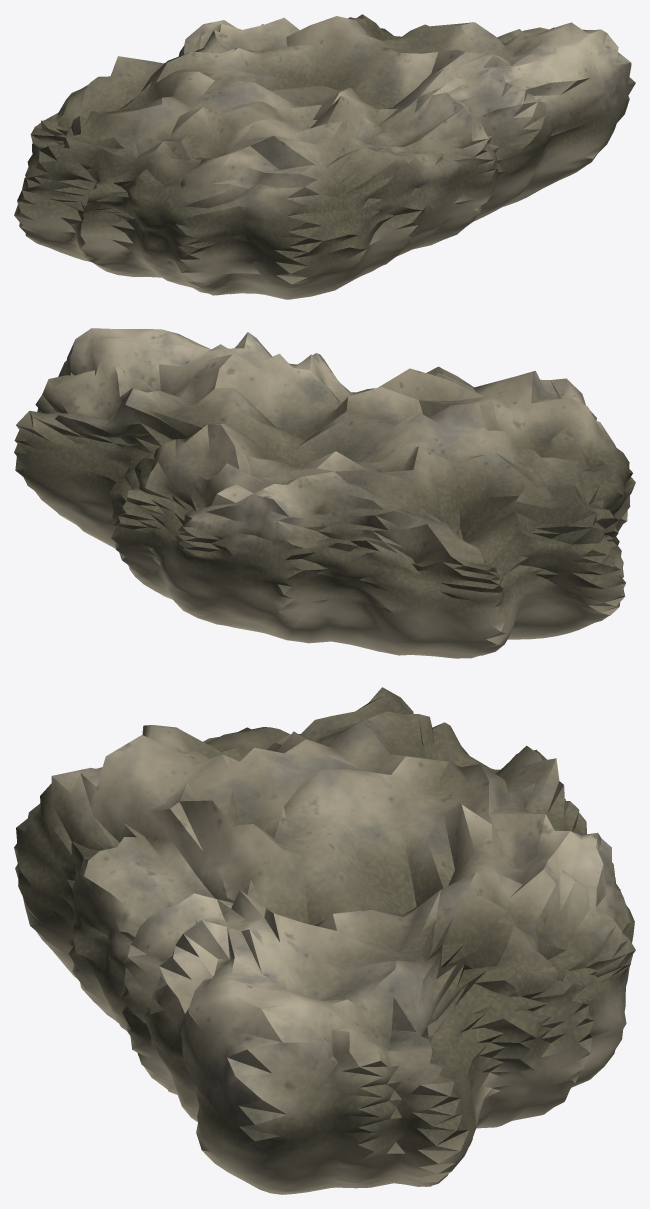
File: ReefRock_A.gltf
3 views of the same model, one above another, from view 1: azimuth 30°, elevation 25°; view 2: azimuth 150°, elevation 25°; view 3: azimuth 270°, elevation 25° (orthographic). The views are drawn at different scales.
Parts seen in each view (by area): view 1: ReefRock_A; view 2: ReefRock_A; view 3: ReefRock_A.
Part boxes in pixels (bbox=[...]): ReefRock_A: bbox=[14, 14, 635, 299]; ReefRock_A: bbox=[14, 328, 635, 658]; ReefRock_A: bbox=[14, 687, 635, 1194].
Bounding box in the file's own units: 3.8 × 1.16 × 2.47.
Materials: 1 (1 with a texture image).
